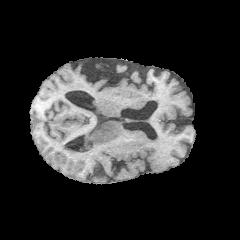glioma: (62, 120, 118, 154)
